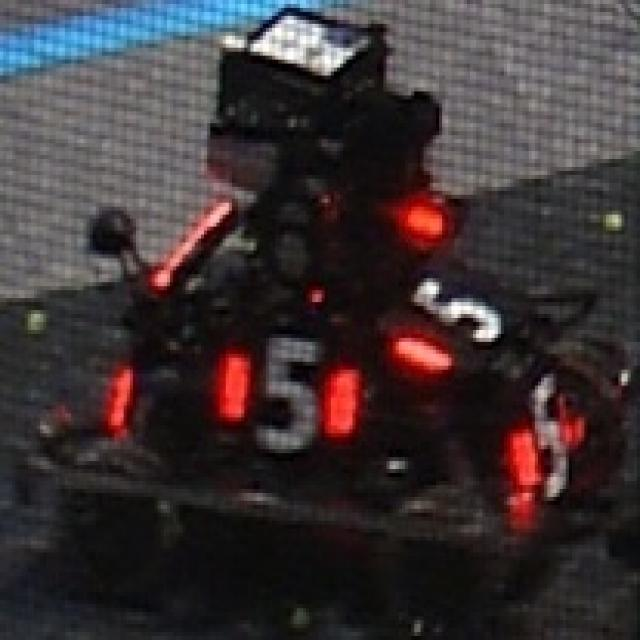R5: (207, 316, 362, 463), (385, 248, 505, 368), (499, 364, 602, 499)
